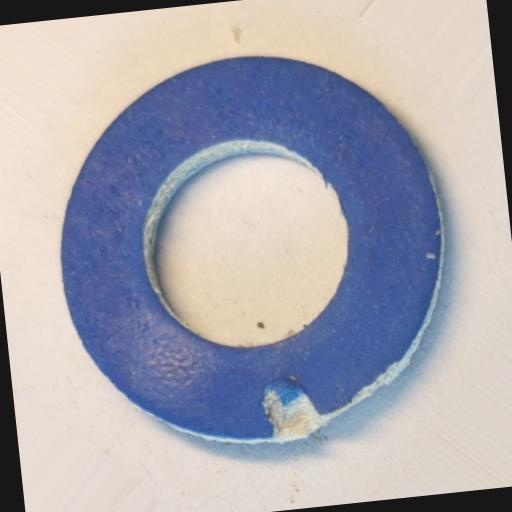defect: (258, 376, 325, 446)
